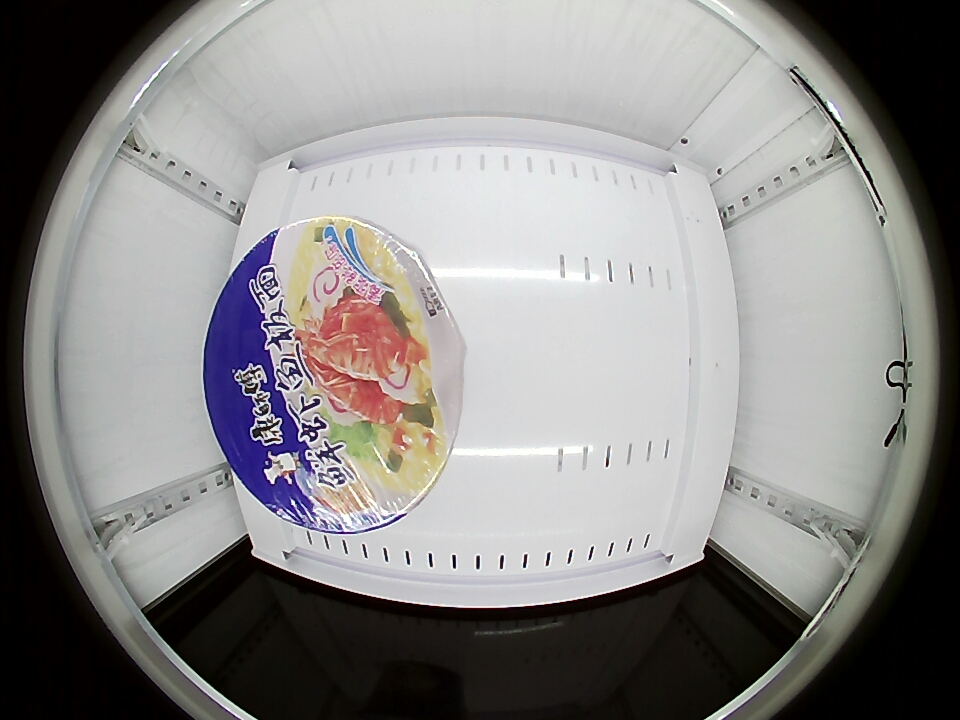xianxiayuban: (203, 214, 458, 536)
